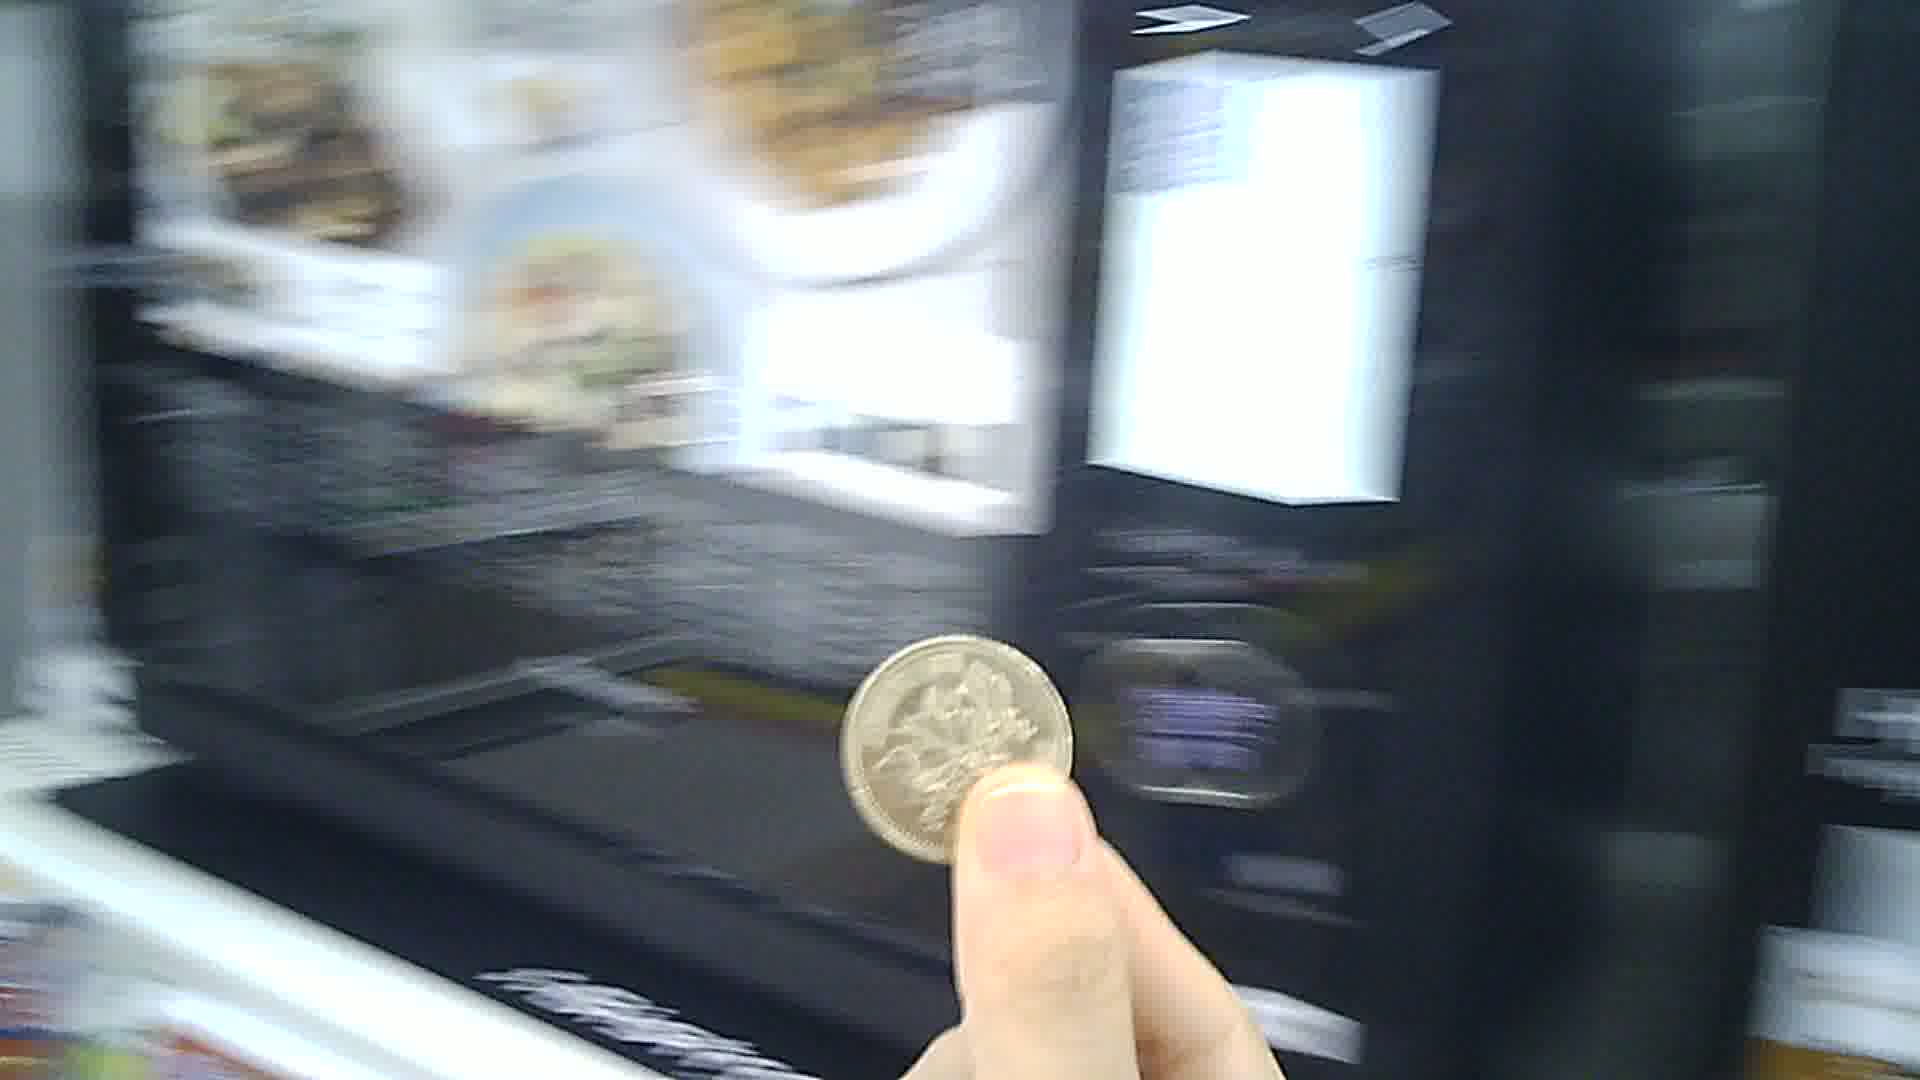500 Yen: (837, 628, 1080, 872)
